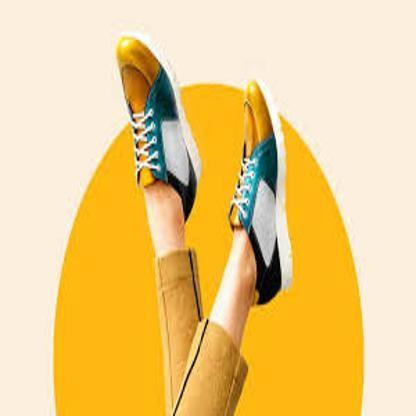not trash: (106, 34, 200, 224), (226, 81, 301, 307)
